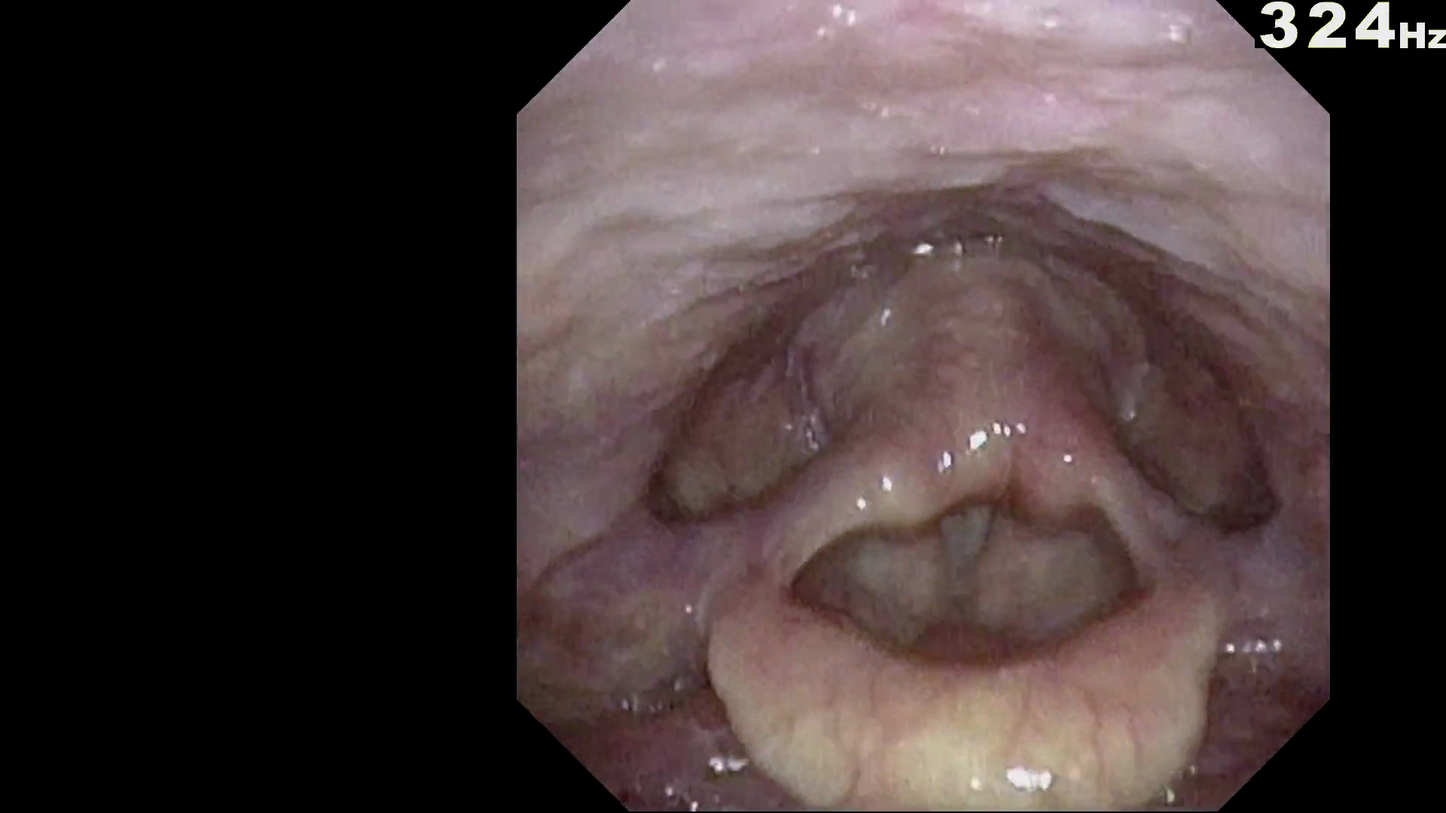epiglottis: (658, 510, 1288, 793)
trachea: (924, 487, 1015, 582)
